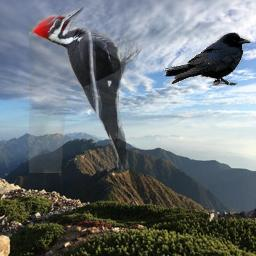Crow: (163, 32, 251, 86)
Woodpecker: (29, 7, 142, 173)
